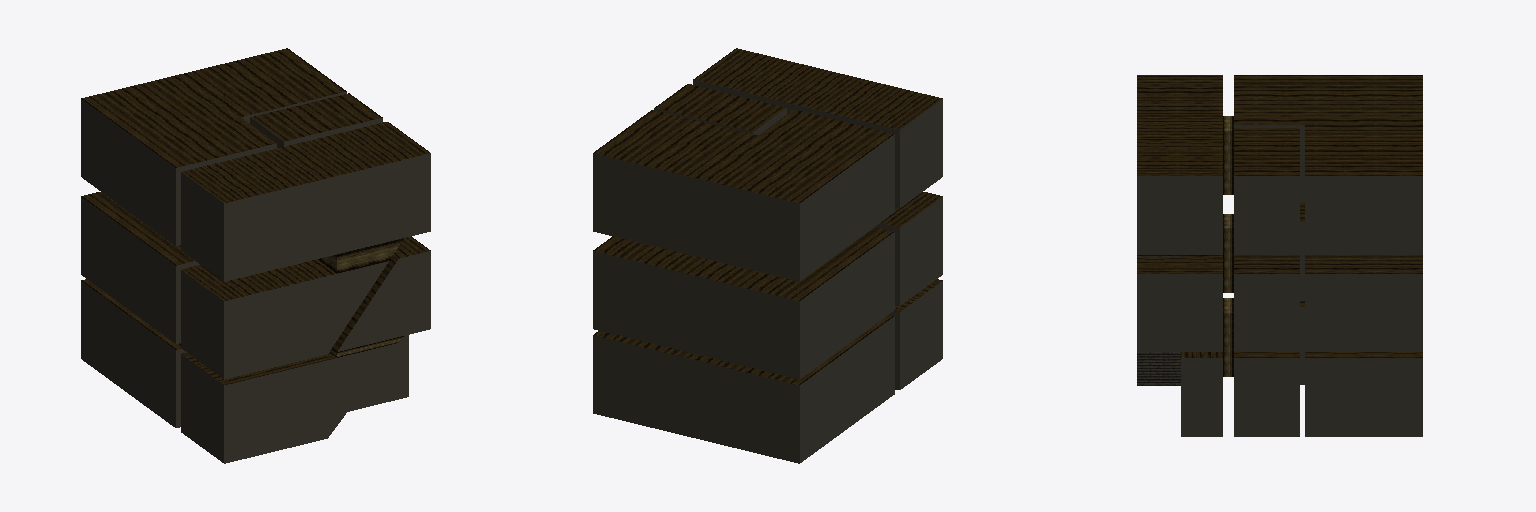
The picture shows the model from 3 angles: view 1: azimuth 30°, elevation 25°; view 2: azimuth 150°, elevation 25°; view 3: azimuth 270°, elevation 25°; orthographic projection.
Parts seen in each view (by area): view 1: building2; view 2: building2; view 3: building2.
Part boxes in pixels (x1,y1,x2,y2): building2: (81,48,430,463); building2: (593,48,942,463); building2: (1137,75,1422,436).
Size of the model in its own units: 16 by 19.25 by 19.22.
Materials: 7 (4 with a texture image).